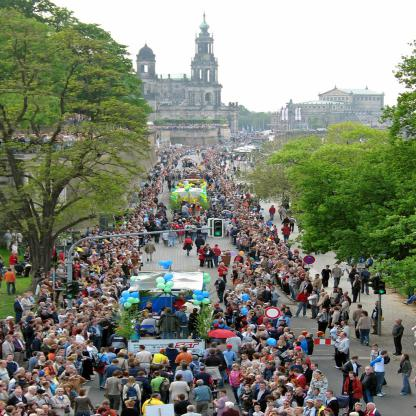face: (43, 407, 50, 413), (367, 405, 374, 411), (366, 367, 371, 374), (58, 391, 64, 396), (17, 391, 22, 397), (8, 356, 14, 361), (66, 363, 72, 368), (326, 393, 331, 399), (285, 411, 291, 416), (284, 403, 290, 408), (286, 395, 292, 400), (313, 391, 319, 396), (260, 385, 266, 390), (257, 377, 262, 383), (316, 373, 321, 379), (312, 365, 317, 371), (242, 355, 248, 360), (33, 405, 38, 410), (18, 408, 23, 413), (33, 389, 38, 394), (26, 388, 31, 393), (66, 387, 71, 392), (27, 375, 32, 380), (60, 351, 65, 356), (45, 340, 50, 345), (69, 368, 74, 373), (357, 407, 362, 412), (325, 411, 330, 416), (255, 408, 260, 413), (256, 365, 261, 370), (266, 365, 271, 370), (297, 360, 302, 365), (280, 337, 285, 342), (340, 333, 345, 338), (41, 357, 47, 361), (219, 393, 225, 397), (307, 402, 313, 406), (269, 407, 275, 411), (273, 394, 277, 400), (241, 369, 247, 373), (15, 413, 22, 416), (19, 404, 24, 408), (17, 387, 22, 391), (48, 383, 52, 388), (42, 380, 47, 384), (22, 370, 27, 374), (72, 374, 77, 378), (82, 345, 87, 349), (94, 322, 99, 326), (101, 319, 106, 323), (126, 403, 130, 408), (158, 396, 162, 401), (226, 405, 230, 410), (315, 403, 320, 407), (272, 412, 277, 416), (267, 399, 272, 403), (296, 390, 301, 394), (279, 389, 284, 393), (271, 386, 276, 390), (246, 388, 251, 392), (290, 372, 294, 377), (250, 375, 255, 379), (234, 367, 239, 371), (303, 365, 308, 369), (294, 357, 299, 361), (277, 328, 282, 332), (263, 319, 268, 323), (263, 305, 268, 309), (350, 374, 355, 378), (337, 333, 342, 337), (253, 355, 257, 360), (1, 386, 4, 392), (47, 377, 51, 381), (34, 375, 38, 379), (53, 375, 57, 379), (51, 362, 55, 366), (59, 359, 63, 363), (9, 338, 13, 342), (19, 335, 23, 339), (53, 328, 57, 332), (57, 325, 61, 329), (66, 332, 70, 336), (80, 347, 84, 351), (72, 340, 76, 344), (69, 321, 73, 325), (72, 318, 76, 322), (84, 326, 88, 330), (86, 323, 90, 327), (107, 316, 111, 320), (25, 295, 29, 299), (128, 285, 132, 289), (296, 410, 300, 414), (269, 383, 273, 387), (306, 386, 310, 390), (276, 369, 280, 373), (262, 359, 266, 363), (272, 348, 276, 352), (294, 342, 298, 346), (248, 319, 252, 323), (385, 353, 389, 357), (402, 355, 406, 359), (374, 347, 378, 351), (355, 359, 359, 363), (335, 324, 339, 328), (342, 322, 346, 326), (397, 320, 401, 324), (323, 310, 327, 314), (1, 406, 5, 410), (14, 408, 17, 413), (5, 364, 8, 369), (79, 327, 84, 330), (292, 384, 297, 387), (274, 374, 277, 379), (284, 328, 287, 333), (280, 321, 285, 324), (330, 309, 335, 312), (33, 383, 37, 386), (22, 378, 26, 381), (85, 391, 88, 395), (66, 380, 70, 383), (39, 334, 43, 337), (40, 327, 43, 331), (47, 323, 51, 326), (53, 336, 57, 339), (62, 342, 66, 345), (75, 348, 78, 352), (79, 353, 83, 356), (90, 343, 94, 346), (81, 332, 85, 335), (74, 326, 77, 330), (83, 320, 87, 323), (93, 318, 96, 322), (87, 317, 91, 320), (97, 316, 101, 319), (99, 321, 103, 324), (43, 311, 46, 315), (43, 304, 47, 307), (86, 310, 89, 314), (44, 291, 48, 294), (256, 377, 259, 381), (285, 365, 289, 368), (263, 353, 267, 356), (272, 354, 275, 358), (260, 327, 264, 330), (260, 339, 264, 342), (242, 330, 246, 333), (256, 313, 260, 316), (246, 308, 250, 311), (255, 309, 259, 312), (282, 312, 285, 316), (244, 301, 247, 305), (227, 299, 231, 302), (376, 303, 380, 306), (337, 307, 341, 310), (149, 304, 153, 307), (18, 328, 21, 331), (23, 324, 26, 327), (35, 322, 38, 325), (40, 320, 43, 323), (49, 321, 52, 324), (74, 339, 77, 342), (68, 327, 71, 330), (32, 314, 35, 317), (64, 312, 67, 315), (79, 316, 82, 319), (75, 313, 78, 316), (105, 309, 108, 312), (106, 303, 109, 306), (91, 299, 94, 302), (106, 294, 109, 297), (96, 291, 99, 294), (105, 289, 108, 292), (112, 291, 115, 294), (80, 293, 83, 296), (106, 281, 109, 284), (118, 274, 121, 277), (115, 270, 118, 273), (114, 254, 117, 257), (89, 259, 92, 262), (115, 250, 118, 253), (135, 239, 138, 242), (299, 338, 302, 341), (307, 335, 310, 338), (241, 322, 244, 325), (239, 308, 242, 311), (281, 306, 284, 309), (253, 299, 256, 302), (258, 300, 261, 303), (233, 297, 236, 300), (252, 287, 255, 290), (248, 286, 251, 289), (258, 275, 261, 278), (219, 279, 222, 282), (222, 264, 225, 267), (234, 266, 237, 269), (238, 254, 241, 257), (362, 314, 365, 317), (345, 298, 348, 301), (338, 291, 341, 294), (335, 288, 338, 291), (322, 290, 325, 293), (314, 288, 317, 291), (305, 280, 308, 283), (297, 275, 300, 278), (290, 274, 293, 277), (290, 270, 293, 273), (276, 246, 279, 249), (185, 309, 188, 312), (215, 306, 218, 309), (50, 283, 53, 286), (46, 281, 49, 284), (43, 277, 46, 280), (6, 321, 8, 325), (50, 321, 54, 323), (27, 296, 31, 298), (80, 278, 82, 282), (248, 330, 252, 332), (234, 313, 238, 315), (233, 307, 237, 309), (245, 291, 249, 293), (8, 322, 11, 324), (11, 319, 14, 321), (19, 297, 22, 299), (31, 294, 34, 296), (49, 310, 52, 312), (55, 309, 58, 311), (90, 311, 92, 314), (98, 311, 101, 313), (86, 301, 89, 303), (76, 305, 78, 308), (82, 297, 85, 299), (109, 295, 112, 297), (95, 286, 98, 288), (99, 287, 102, 289), (84, 287, 87, 289), (83, 280, 86, 282), (106, 276, 109, 278), (107, 266, 110, 268), (86, 266, 89, 268), (60, 267, 63, 269), (125, 264, 128, 266), (114, 261, 117, 263), (94, 258, 97, 260), (108, 256, 111, 258), (124, 260, 127, 262), (127, 259, 130, 261), (134, 254, 137, 256), (140, 254, 143, 256), (126, 251, 129, 253), (122, 251, 125, 253), (92, 251, 95, 253), (83, 262, 86, 264), (118, 253, 121, 255), (122, 248, 125, 250), (128, 245, 131, 247), (117, 247, 120, 249), (115, 248, 118, 250), (114, 243, 117, 245), (121, 243, 124, 245), (96, 233, 99, 235), (90, 236, 93, 238), (94, 232, 96, 235), (106, 232, 109, 234), (134, 251, 137, 253), (288, 337, 291, 339), (268, 325, 271, 327), (286, 309, 289, 311), (247, 304, 250, 306), (237, 292, 240, 294), (251, 294, 254, 296), (262, 288, 265, 290), (272, 289, 275, 291), (257, 284, 260, 286), (241, 282, 244, 284), (244, 277, 247, 279), (249, 279, 252, 281), (256, 280, 259, 282), (258, 280, 261, 282), (266, 282, 269, 284), (261, 282, 264, 284), (267, 285, 270, 287), (242, 271, 245, 273), (254, 274, 257, 276), (264, 272, 267, 274), (261, 271, 264, 273), (248, 267, 250, 270), (245, 268, 248, 270), (248, 264, 251, 266), (344, 294, 347, 296), (356, 277, 359, 279), (325, 297, 328, 299), (322, 295, 325, 297), (313, 292, 316, 294), (305, 291, 308, 293), (308, 283, 311, 285), (326, 267, 329, 269), (299, 268, 301, 271), (285, 258, 288, 260), (274, 262, 276, 265), (282, 257, 284, 260), (278, 263, 281, 265), (256, 248, 259, 250), (270, 243, 273, 245), (282, 244, 285, 246), (181, 297, 184, 299), (44, 280, 47, 282), (53, 270, 56, 272), (42, 267, 44, 270), (14, 253, 16, 255), (15, 244, 17, 246), (106, 290, 108, 292), (94, 287, 96, 289), (110, 276, 112, 278), (119, 268, 121, 270), (110, 253, 112, 255), (105, 251, 107, 253), (101, 251, 103, 253), (74, 251, 76, 253), (118, 249, 120, 251), (125, 247, 127, 249), (107, 247, 109, 249), (106, 244, 108, 246), (89, 241, 91, 243), (119, 243, 121, 245), (133, 242, 135, 244), (235, 301, 237, 303), (241, 265, 243, 267), (244, 267, 246, 269), (259, 266, 261, 268), (144, 228, 146, 230), (316, 276, 318, 278), (337, 266, 339, 268), (302, 276, 304, 278), (287, 271, 289, 273), (294, 266, 296, 268), (296, 255, 298, 257), (274, 259, 276, 261), (276, 253, 278, 255), (260, 258, 262, 260), (264, 249, 266, 251), (283, 253, 285, 255), (282, 251, 284, 253), (283, 247, 285, 249), (261, 255, 263, 257), (263, 254, 265, 256), (267, 251, 269, 253), (285, 254, 287, 256), (287, 249, 289, 251), (253, 241, 255, 243), (260, 237, 262, 239), (265, 238, 267, 240), (280, 241, 282, 243), (264, 232, 266, 234), (262, 235, 264, 237), (208, 248, 210, 250), (208, 246, 210, 248), (108, 245, 111, 246), (291, 263, 294, 264), (276, 261, 279, 262), (265, 254, 268, 255), (119, 240, 121, 241), (141, 230, 143, 231), (270, 252, 272, 253), (287, 241, 289, 242), (271, 248, 273, 249), (275, 237, 277, 238), (203, 247, 204, 249), (240, 236, 241, 237)
